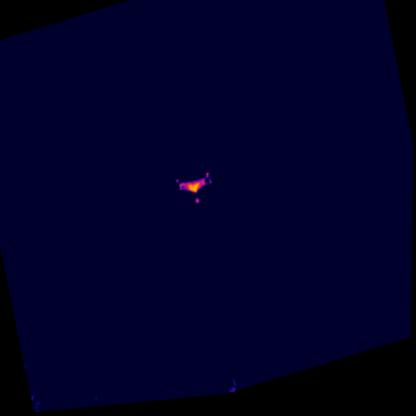drone: (174, 171, 215, 212)
